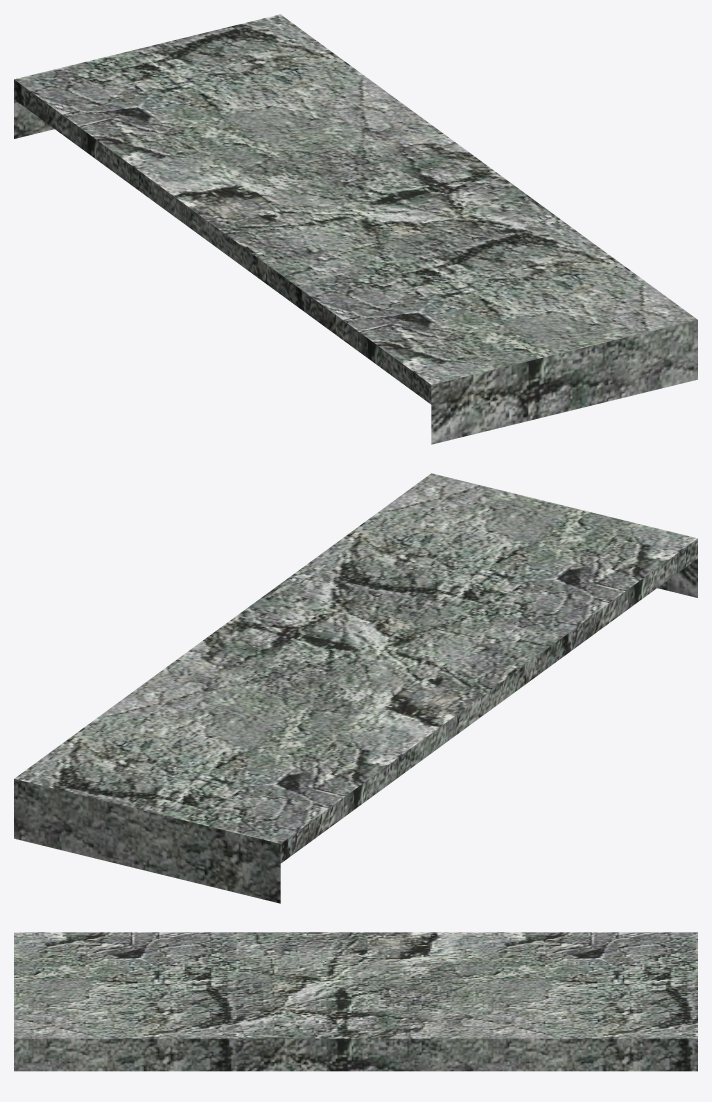
The model's file is R89_DMSPRITEDEF.obj.
3 views of the same model, one above another, from view 1: azimuth 30°, elevation 25°; view 2: azimuth 150°, elevation 25°; view 3: azimuth 270°, elevation 25° (orthographic). The views are drawn at different scales.
Bounding box in the file's own units: 224 × 48 × 608.
1 material, 1 textured.
